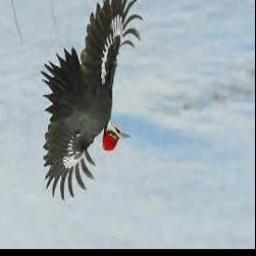Woodpecker: (41, 0, 144, 203)
